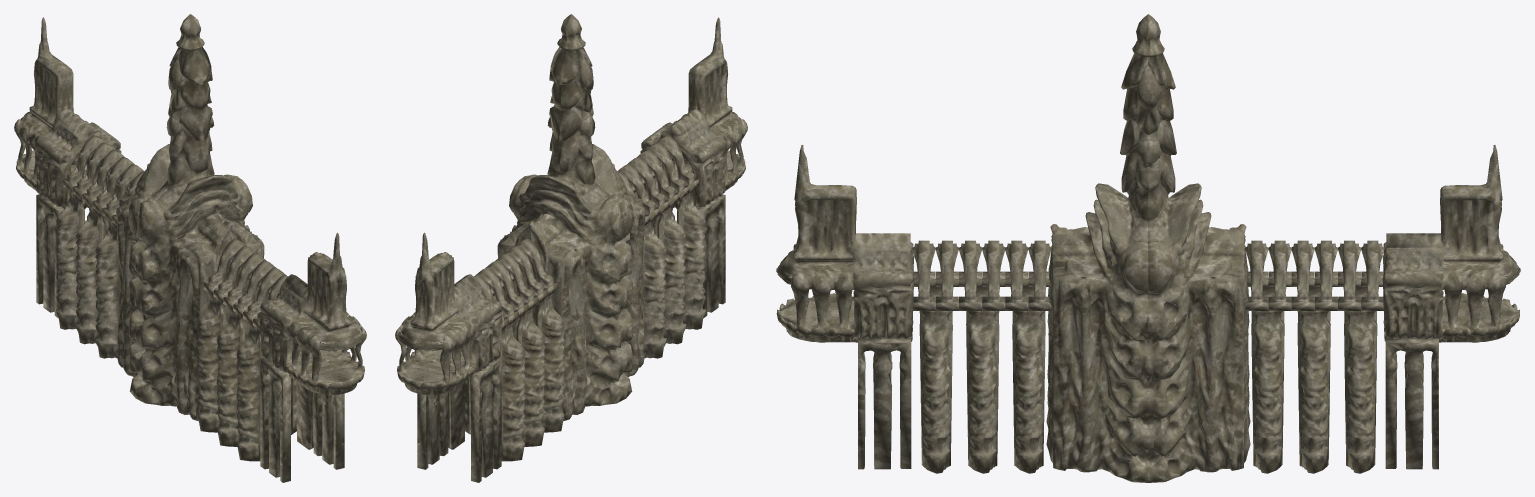
File: UW_Building_B-transformed.glb
3 renders of one model, left to right at view 1: azimuth 30°, elevation 25°; view 2: azimuth 150°, elevation 25°; view 3: azimuth 270°, elevation 25°, orthographic. The views are drawn at different scales.
Parts seen in each view (by area): view 1: UW_Building_B; view 2: UW_Building_B; view 3: UW_Building_B.
Boxes of the visible parts, x1=… form: UW_Building_B: x1=14, y1=14, x2=366, y2=482; UW_Building_B: x1=395, y1=14, x2=747, y2=482; UW_Building_B: x1=776, y1=14, x2=1520, y2=482.
Bounding box in the file's own units: 33.6 × 108 × 166.
Materials: 1 (1 with a texture image).
